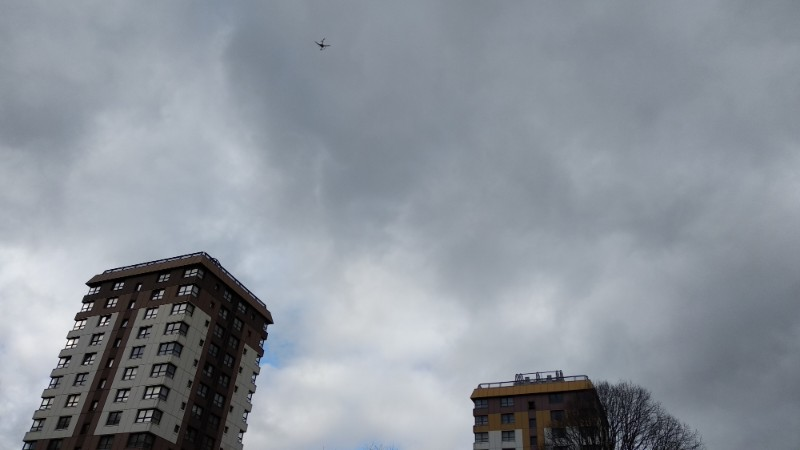drone: (314, 38, 331, 50)
